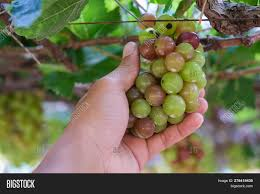grapes: (128, 15, 212, 138)
